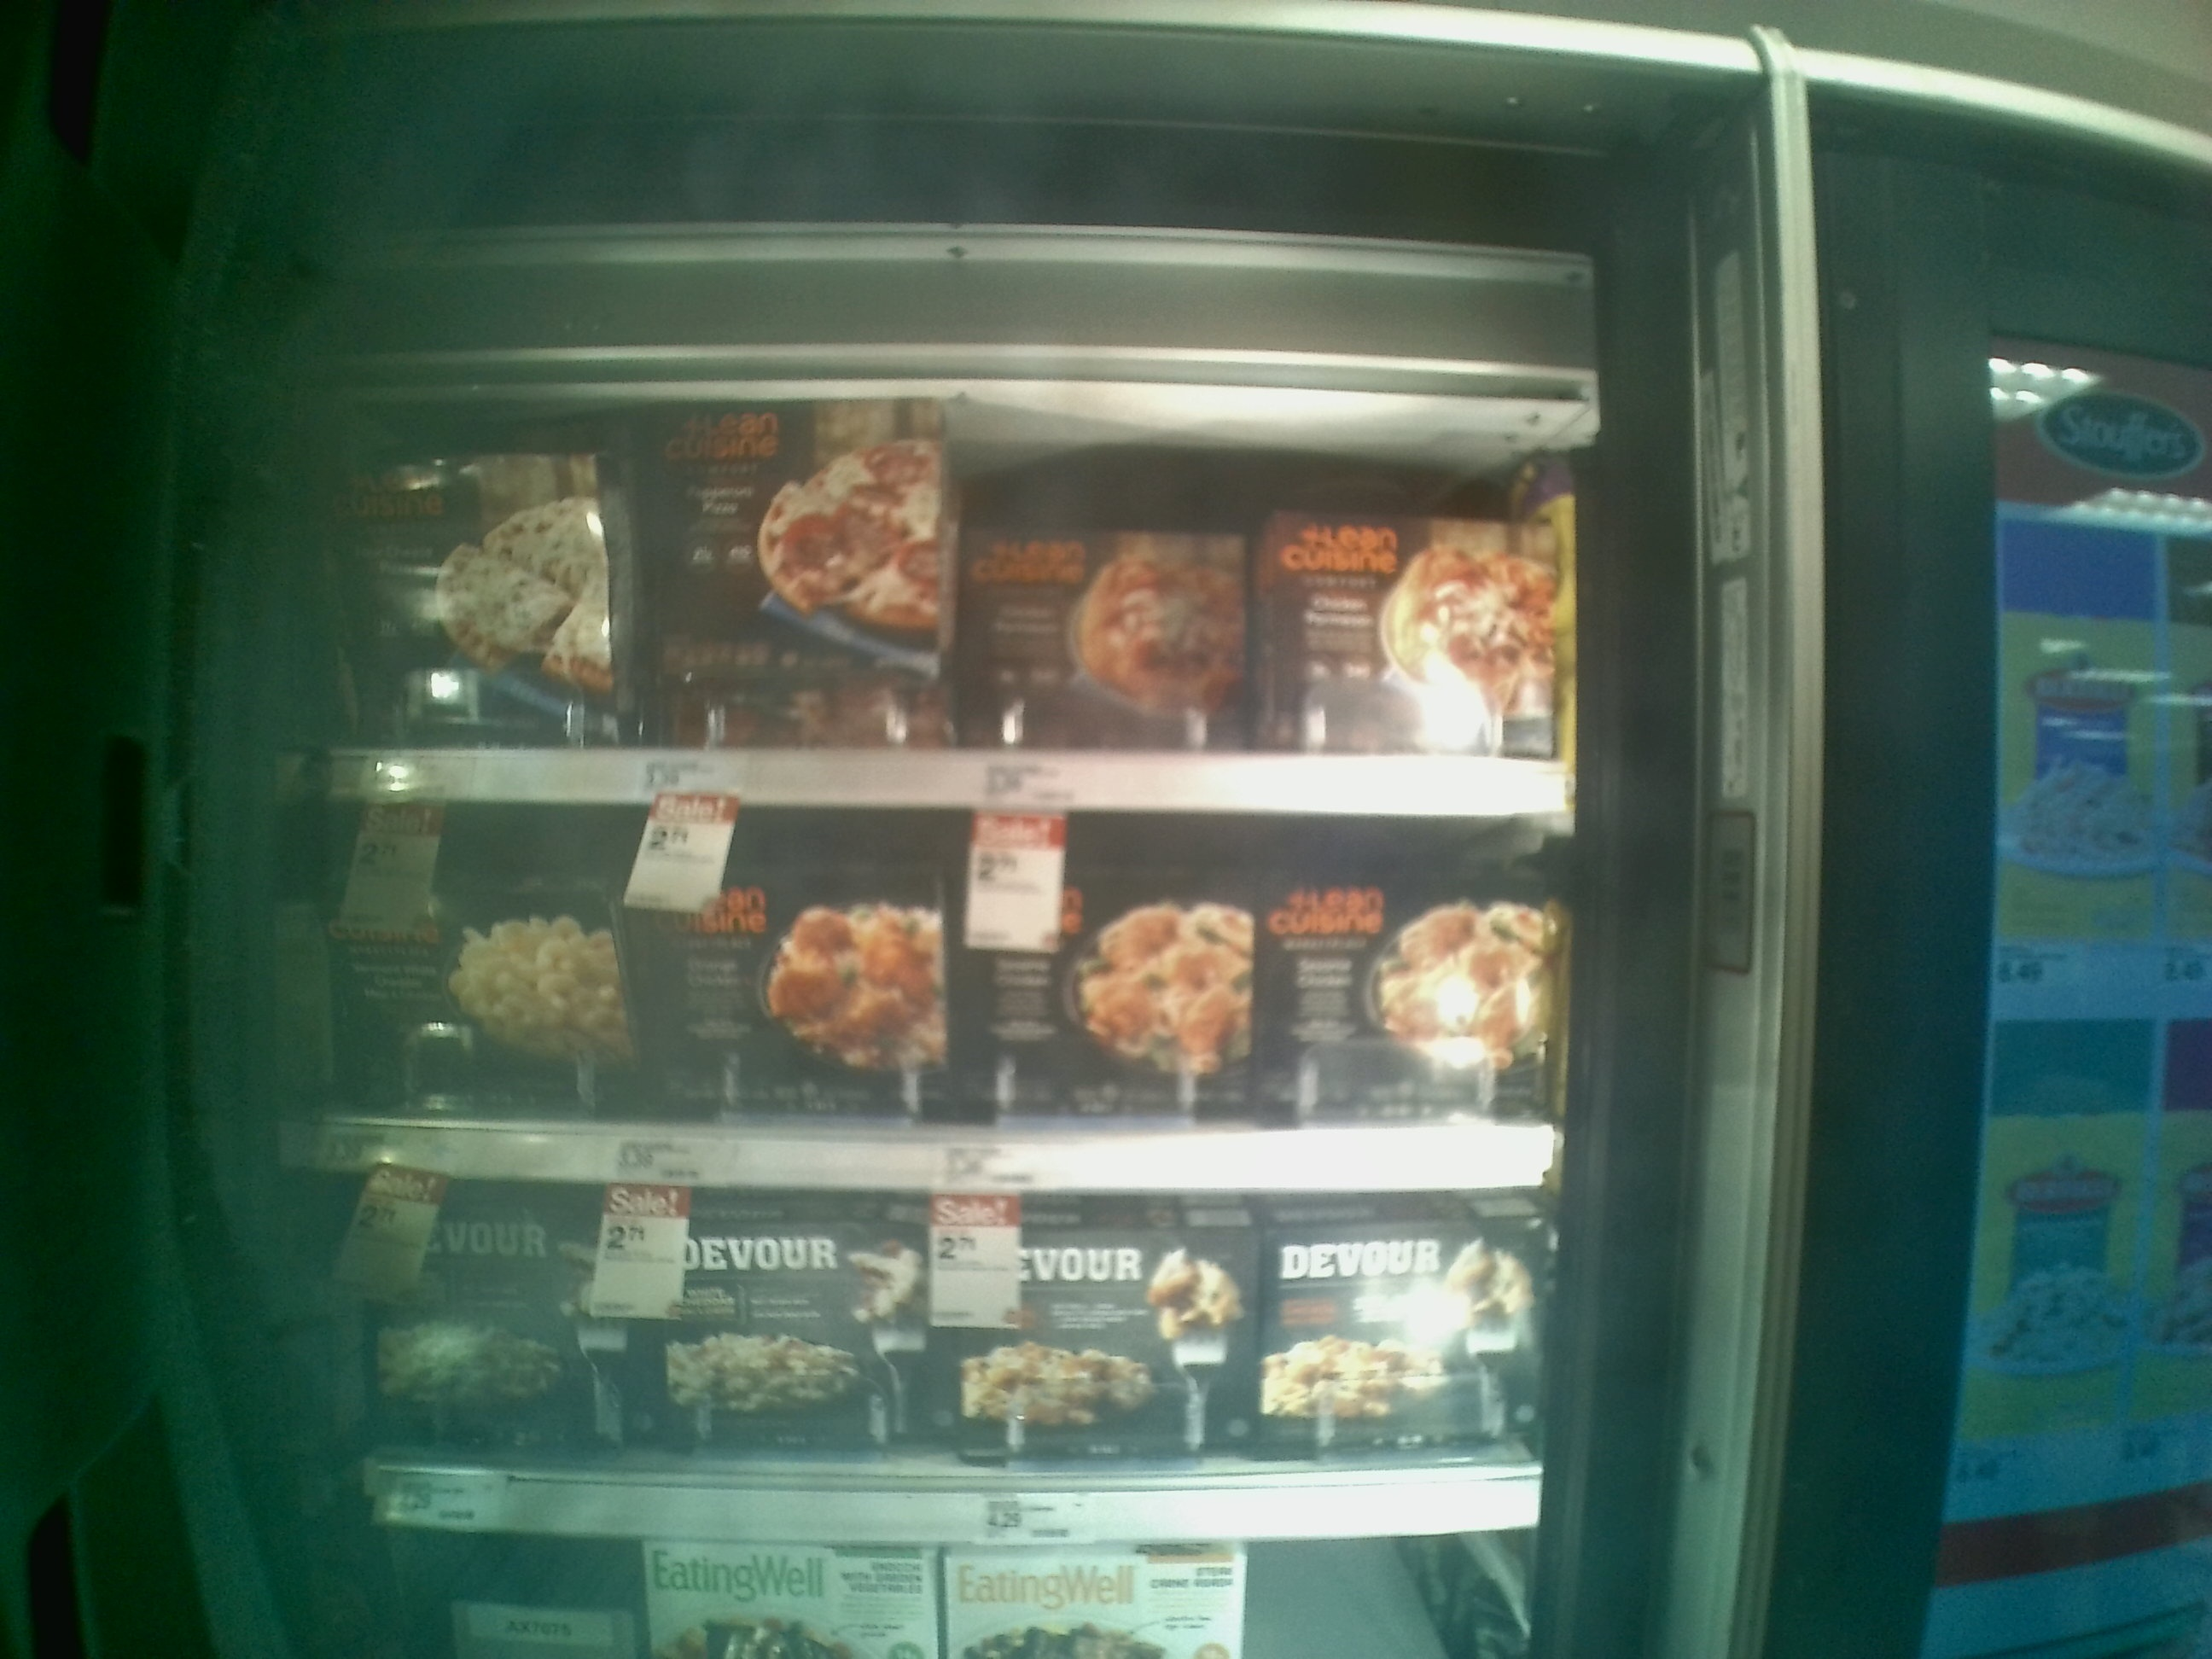shelf: (336, 225, 1569, 819), (340, 793, 1559, 1199), (334, 1150, 1559, 1539)
